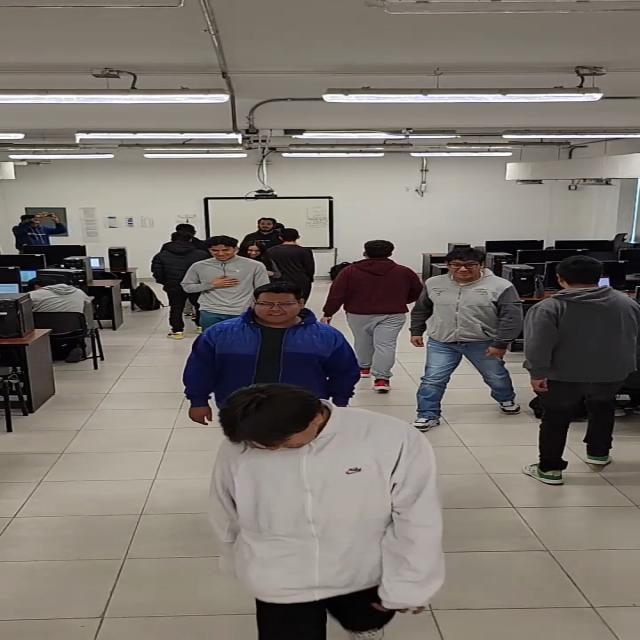Persona: (198, 380, 447, 640), (521, 259, 640, 487), (183, 281, 358, 422), (410, 246, 526, 430), (316, 239, 426, 392), (178, 234, 272, 328), (148, 224, 209, 339), (261, 227, 315, 301), (237, 238, 282, 288), (239, 218, 283, 258)
